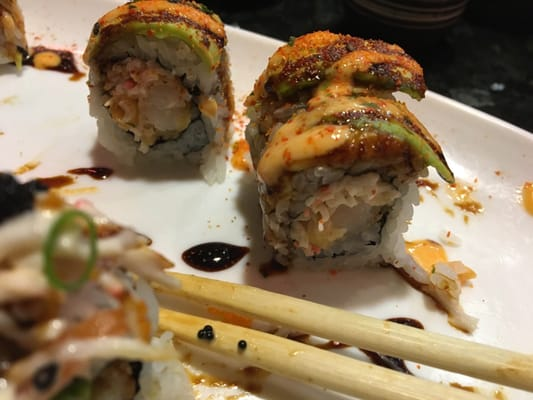soup: (242, 30, 467, 321)
